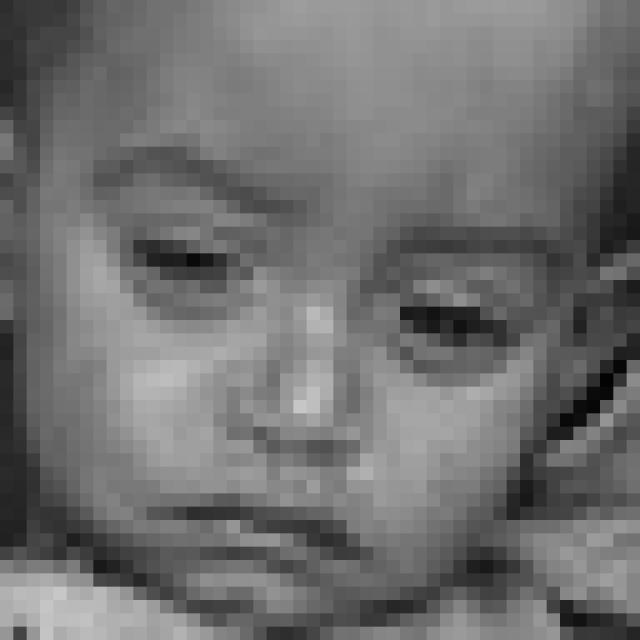sad: (66, 136, 572, 589)
